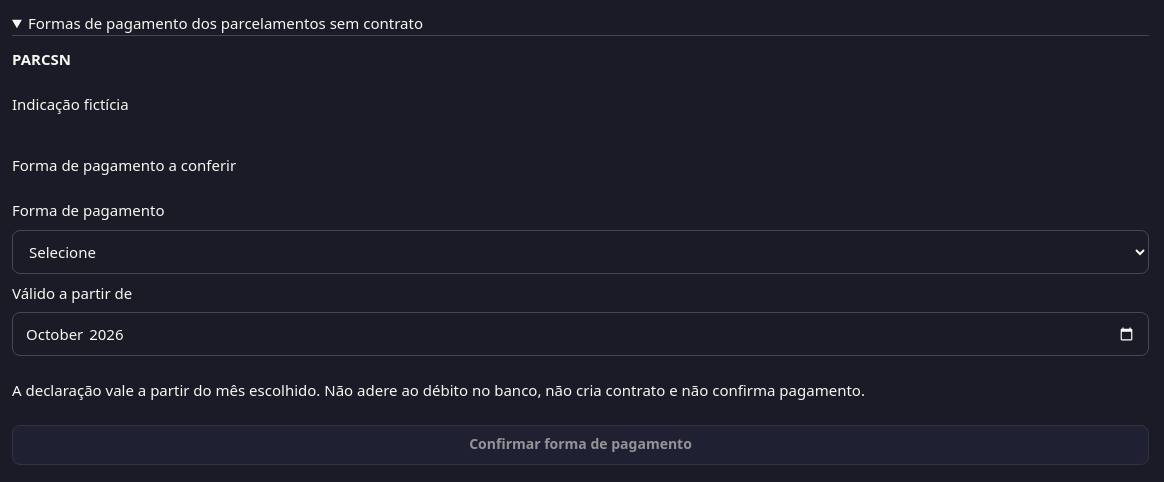
Scenario: forma explícita e vigência, sem pré-seleção e sem criar contrato ou confirmar pagamento
Select "Débito automático" in the dropdown labelled "Forma de pagamento" at point(580, 252), box [12,230,1149,274]
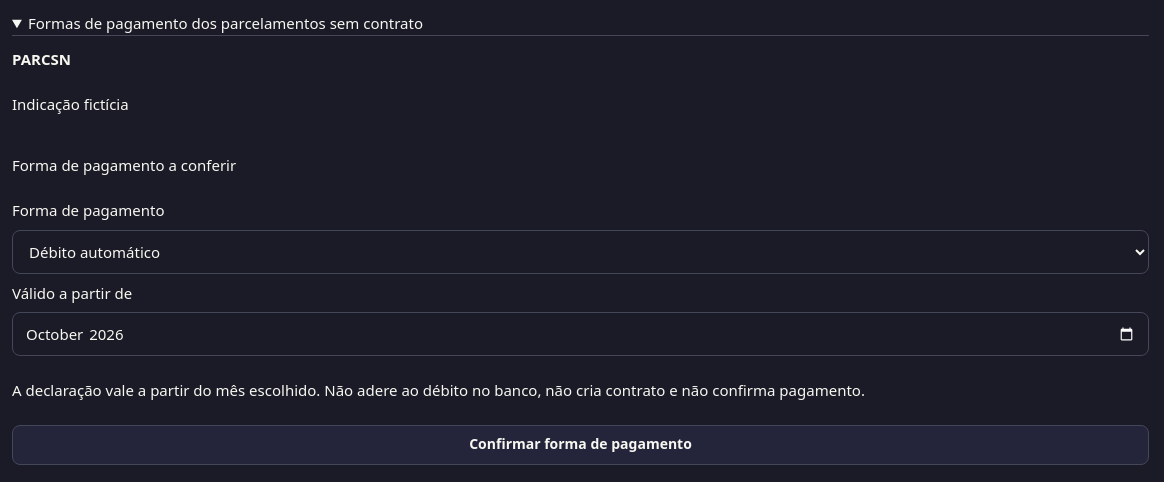
Click the button "Confirmar forma de pagamento" at point(580, 444), box [12,424,1149,464]
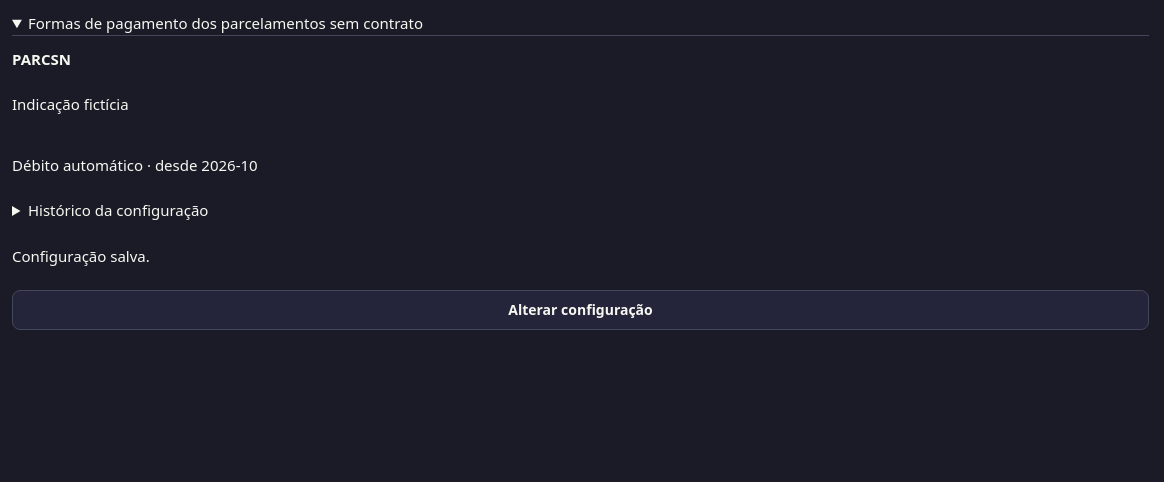
Expected: the text "Configuração salva." is shown, [12,246,150,266]
